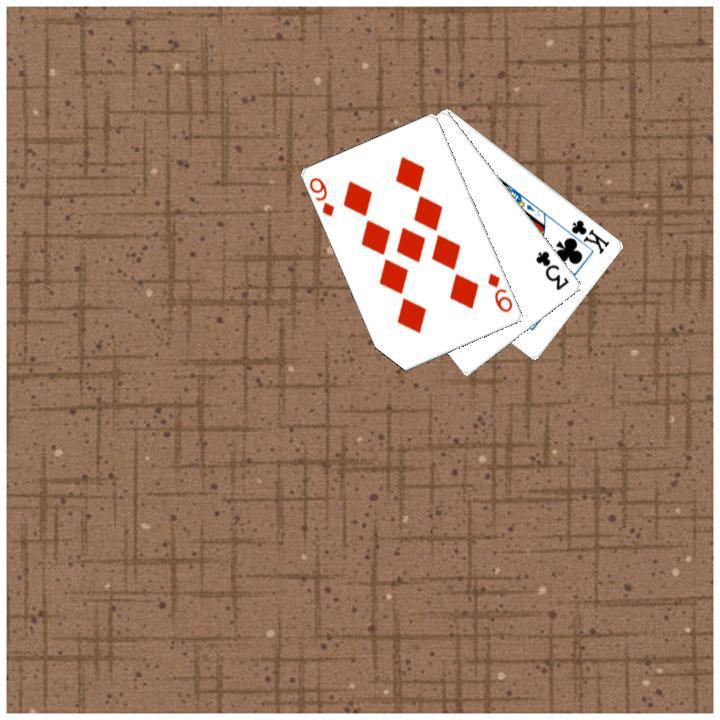3: (531, 246, 571, 292)
9: (483, 269, 515, 315), (305, 173, 337, 219)
K: (559, 215, 612, 256)
